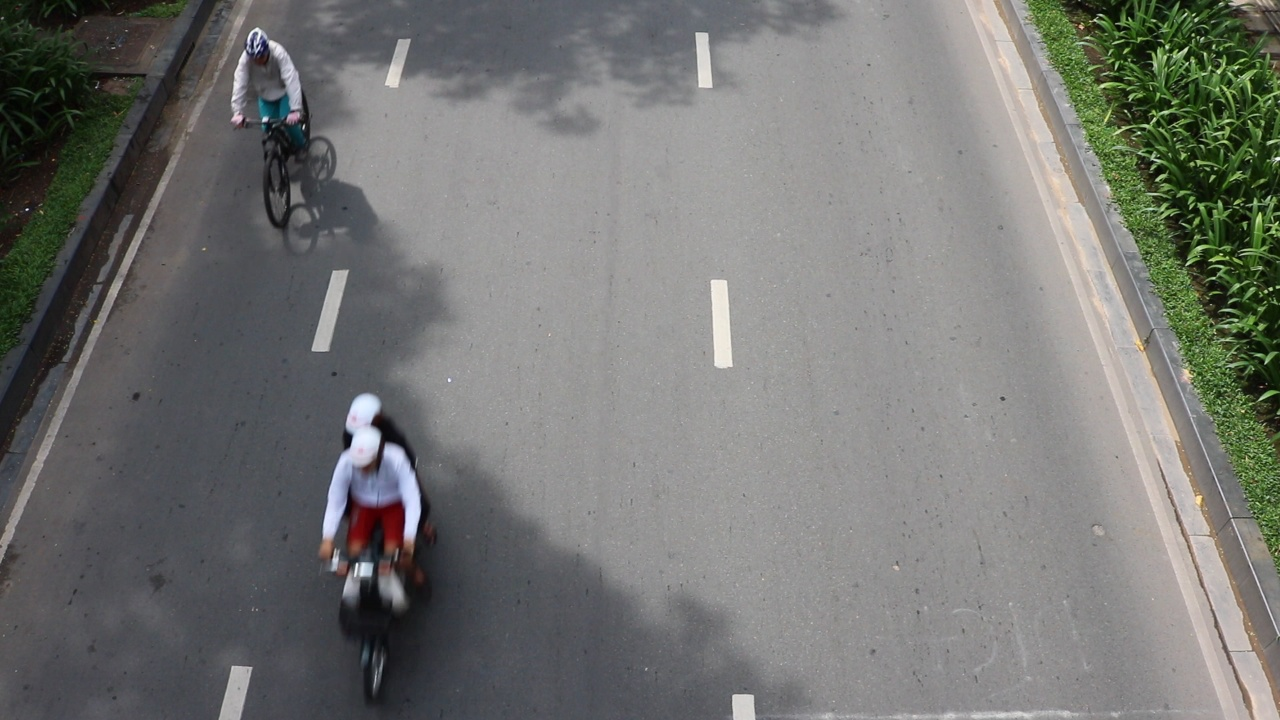bicycle: (258, 115, 337, 256)
motorcycle: (322, 546, 420, 695)
